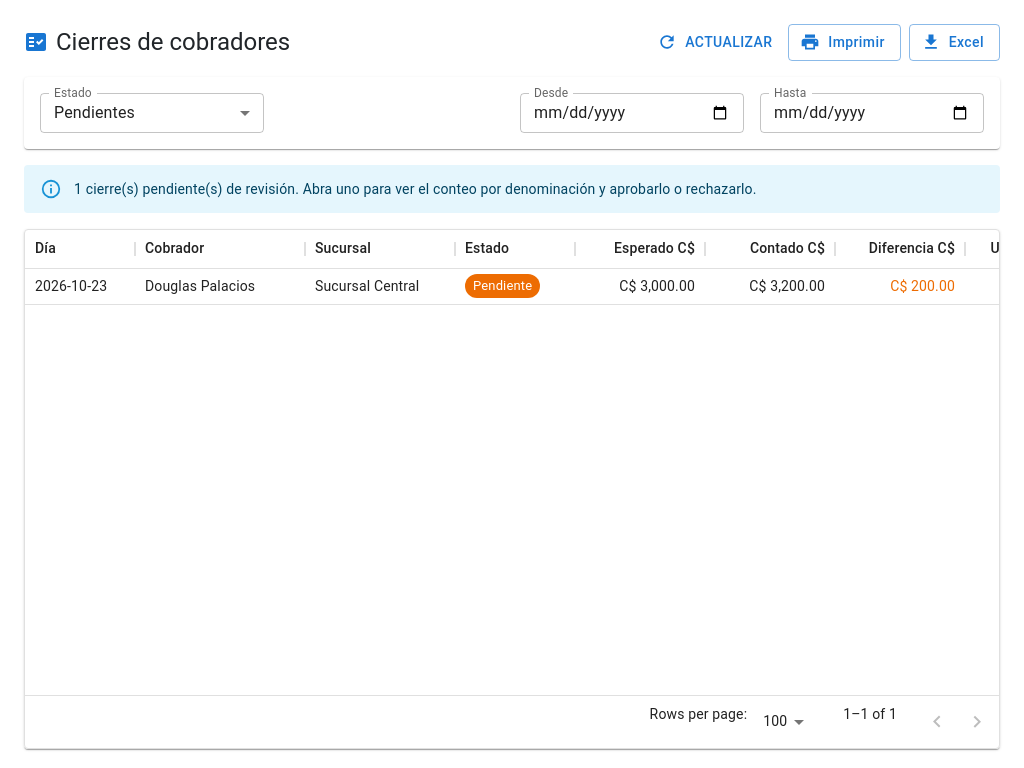
Scenario: CollectorDayCloses: revisión web de cierres de cobradores › el detalle muestra el conteo por denominación en C$ y US$ y los pagos del día
The width and height of the screenshot is (1024, 768).
Click the text "Douglas Palacios" at (200, 286), box [145, 276, 255, 296]
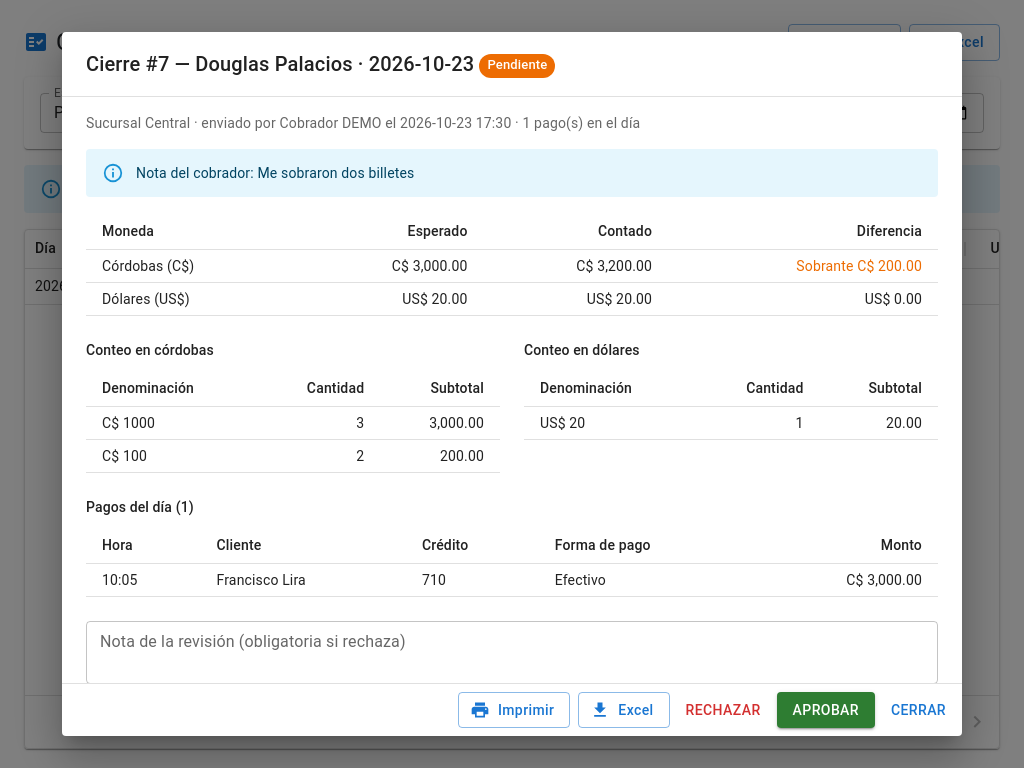
expect the text "Francisco Lira" is shown: met, box [200, 564, 406, 596]
expect the text "C$ 1000" is shown: met, box [86, 406, 257, 440]
expect the text "US$ 20" is shown: met, box [524, 406, 696, 440]
